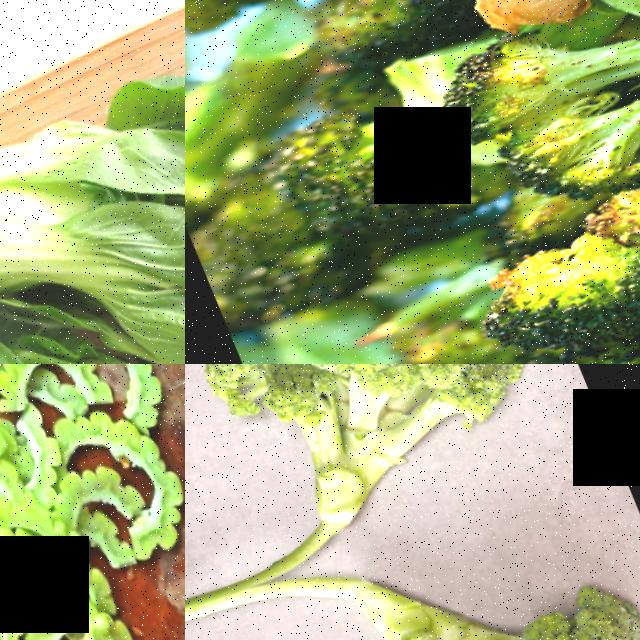bok choy: (0, 0, 185, 364), (0, 262, 185, 364)
broccoli: (185, 364, 553, 590), (185, 64, 478, 347), (289, 449, 640, 640), (418, 0, 640, 258), (468, 195, 640, 364), (185, 0, 343, 68)
